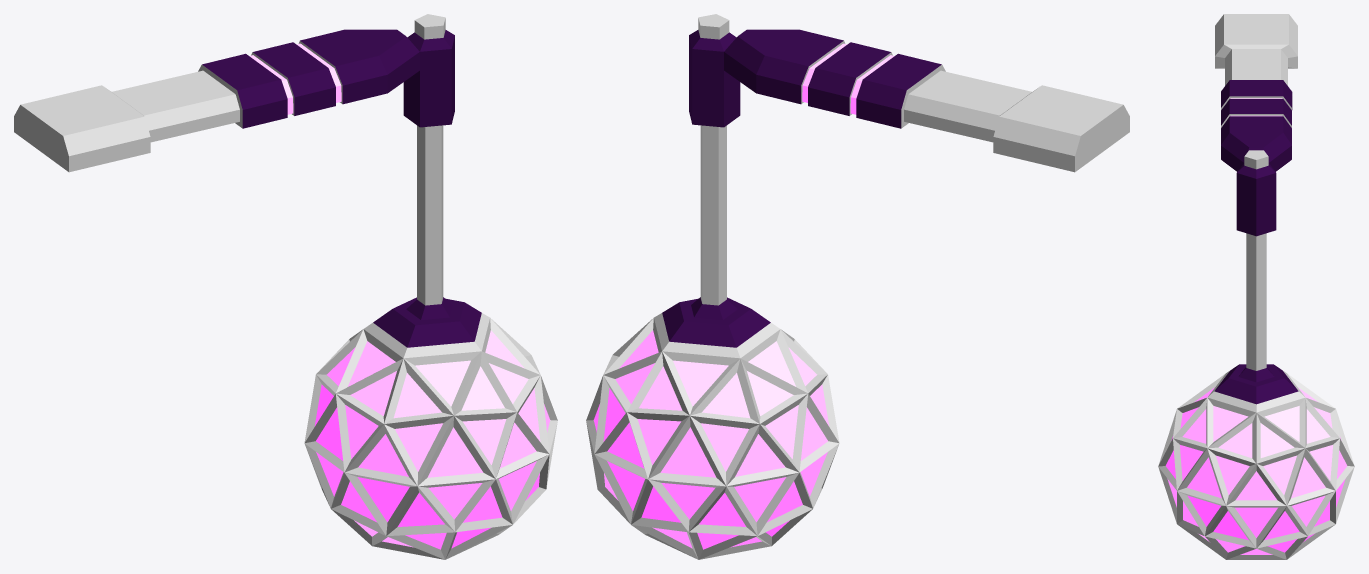
File: Disco_AssestsConcert.fbx
The picture shows the model from 3 angles, left to right: view 1: azimuth 30°, elevation 25°; view 2: azimuth 150°, elevation 25°; view 3: azimuth 270°, elevation 25°; orthographic projection. The views are drawn at different scales.
Visible parts, largest first — view 1: DiscoBall; view 2: DiscoBall; view 3: DiscoBall.
Part boxes in pixels (x1=…): DiscoBall: x1=14, y1=14, x2=557, y2=559; DiscoBall: x1=586, y1=14, x2=1129, y2=559; DiscoBall: x1=1158, y1=14, x2=1354, y2=559.
Bounding box in the file's own units: 593 × 603 × 268.
